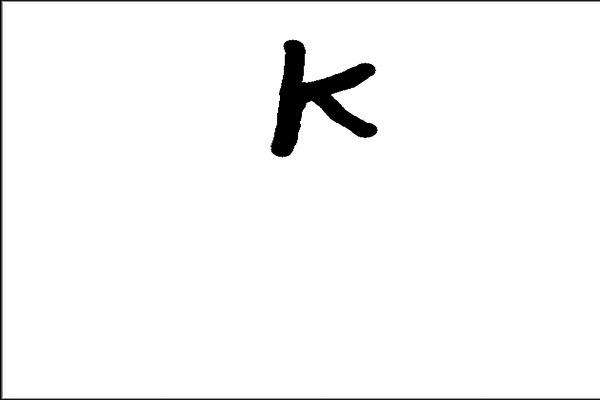K: (262, 35, 384, 160)
